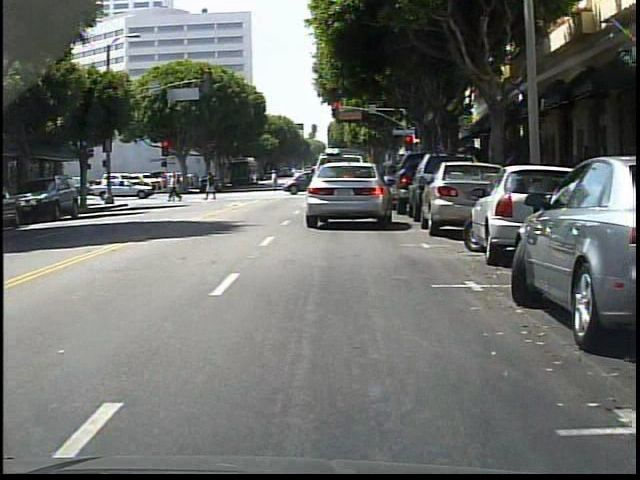person: (205, 172, 220, 201), (169, 174, 183, 202), (271, 170, 279, 191)
